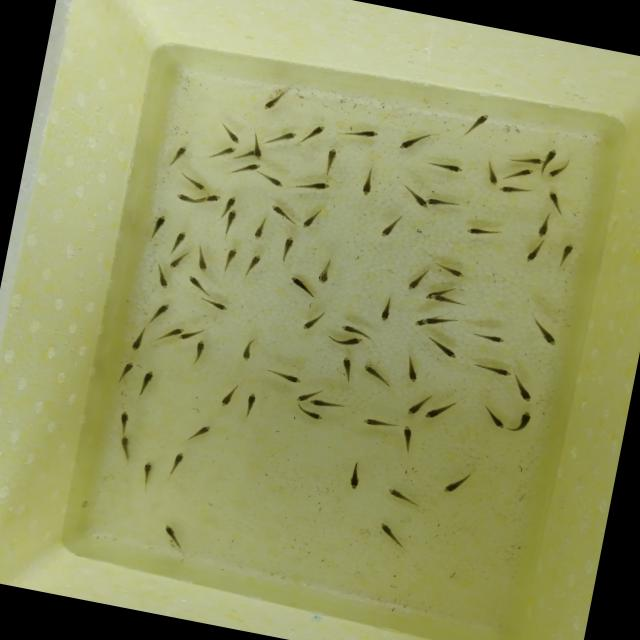fingerling: (442, 466, 476, 500), (525, 316, 561, 348), (338, 318, 381, 344), (376, 521, 412, 551), (358, 362, 396, 390), (396, 129, 434, 156), (510, 374, 540, 406), (328, 332, 370, 354), (142, 300, 172, 330), (343, 455, 368, 491), (462, 222, 506, 242), (183, 274, 219, 298), (422, 337, 458, 361), (286, 276, 320, 300), (479, 404, 509, 431), (230, 158, 266, 180), (259, 86, 287, 114), (507, 408, 532, 439), (462, 111, 489, 139), (381, 483, 417, 504), (377, 212, 402, 242), (113, 356, 138, 386), (422, 403, 456, 425), (474, 362, 513, 381), (115, 433, 138, 465), (159, 524, 186, 551), (434, 262, 470, 282), (136, 368, 160, 398), (342, 125, 384, 142), (402, 352, 424, 384), (504, 164, 536, 186), (266, 368, 303, 387), (183, 420, 210, 446), (428, 292, 467, 310), (292, 402, 327, 422), (268, 128, 299, 150), (506, 152, 546, 169), (404, 392, 430, 418), (302, 120, 328, 146), (168, 245, 192, 273), (420, 316, 457, 334), (402, 189, 432, 211), (196, 297, 229, 317), (534, 210, 556, 240), (220, 246, 242, 276), (358, 417, 396, 434), (524, 237, 546, 266), (216, 386, 240, 412), (140, 458, 160, 489), (210, 142, 238, 164), (428, 197, 464, 214), (296, 178, 334, 194), (542, 188, 566, 213), (300, 205, 324, 230), (300, 310, 325, 334), (191, 243, 211, 273), (152, 259, 172, 289), (147, 212, 168, 240), (336, 355, 356, 384), (498, 183, 532, 200), (429, 160, 465, 176), (267, 202, 295, 222), (238, 334, 258, 362), (398, 422, 418, 450), (243, 250, 263, 278), (320, 147, 339, 176), (309, 397, 341, 414), (378, 298, 396, 328), (240, 391, 258, 421), (541, 146, 560, 174), (220, 127, 244, 149), (130, 326, 150, 352), (258, 173, 288, 190), (182, 176, 210, 194), (484, 160, 502, 188), (278, 234, 296, 262), (252, 218, 272, 243), (168, 448, 186, 475), (170, 144, 190, 168), (408, 268, 428, 292), (222, 208, 238, 238), (115, 411, 134, 436), (188, 340, 208, 363), (472, 331, 503, 345), (360, 170, 375, 198), (559, 244, 576, 268), (172, 228, 190, 250), (318, 259, 332, 287), (162, 323, 184, 340), (175, 192, 199, 206), (178, 331, 202, 345), (200, 191, 222, 206), (250, 140, 266, 160), (294, 390, 313, 406), (549, 167, 569, 182), (223, 193, 238, 211)
